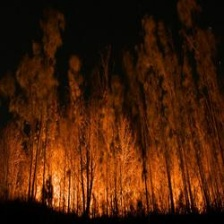fire: (24, 148, 205, 212)
